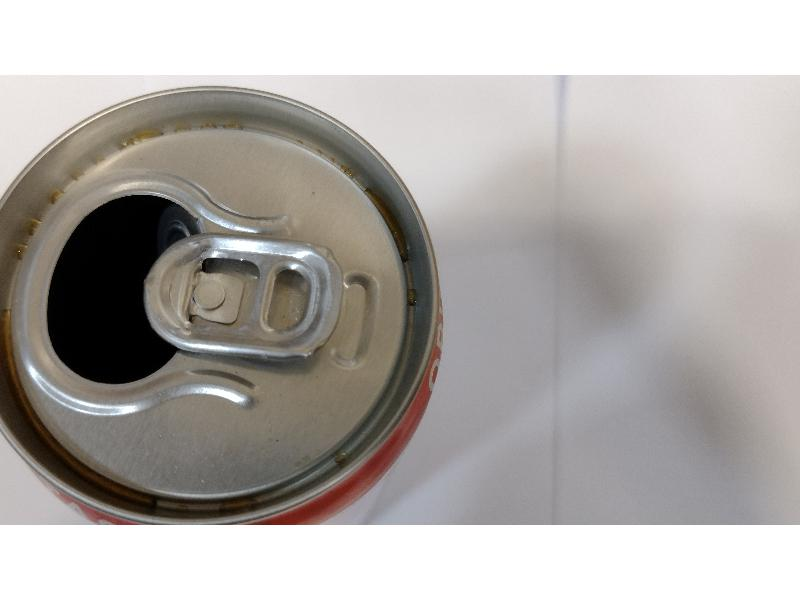can: (1, 80, 452, 531)
